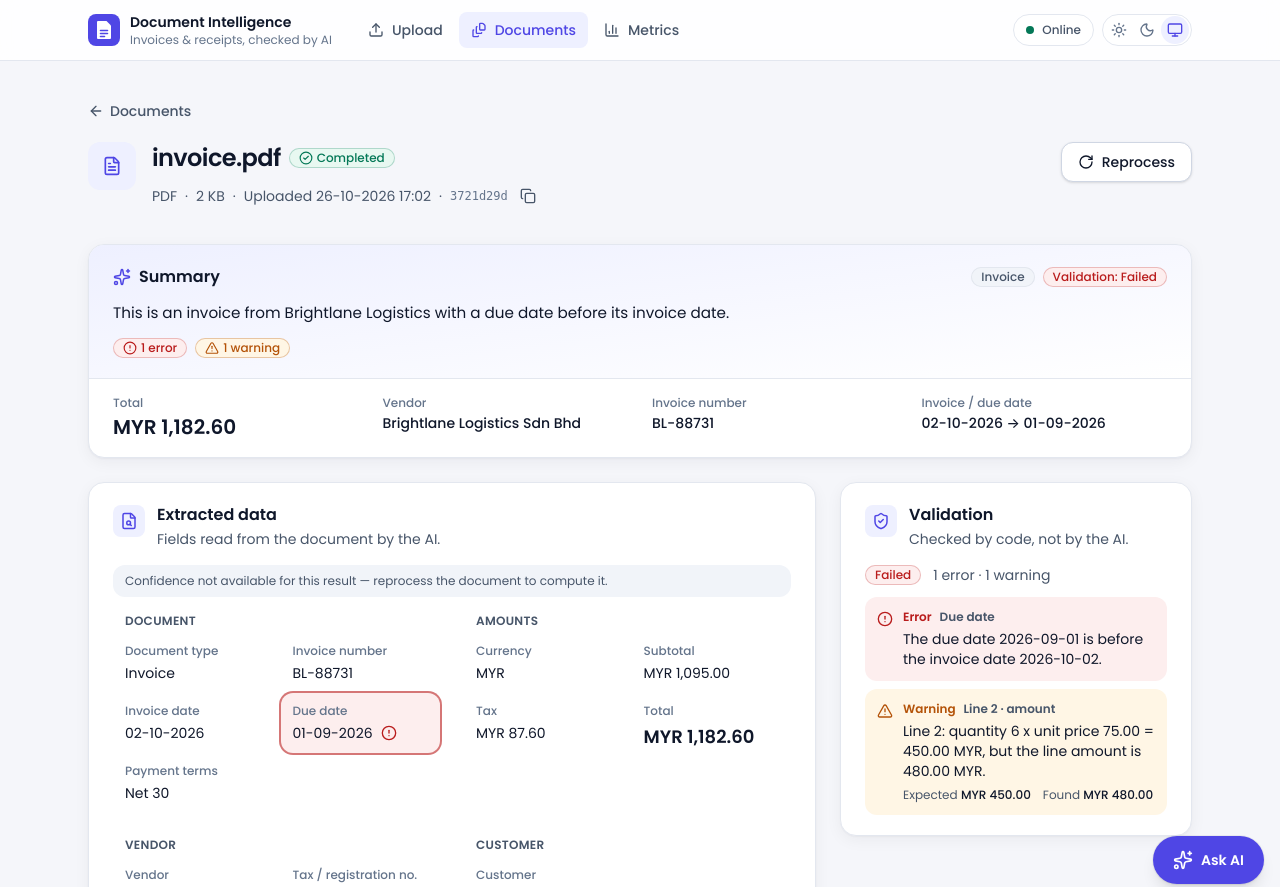
Test case: Reprocess › can be cancelled
The width and height of the screenshot is (1280, 887).
Check: the text "an invoice from Brightlane Logistics" is shown, box [113, 302, 729, 323]
Click the button "Reprocess" at (1126, 162), box [1061, 142, 1192, 182]
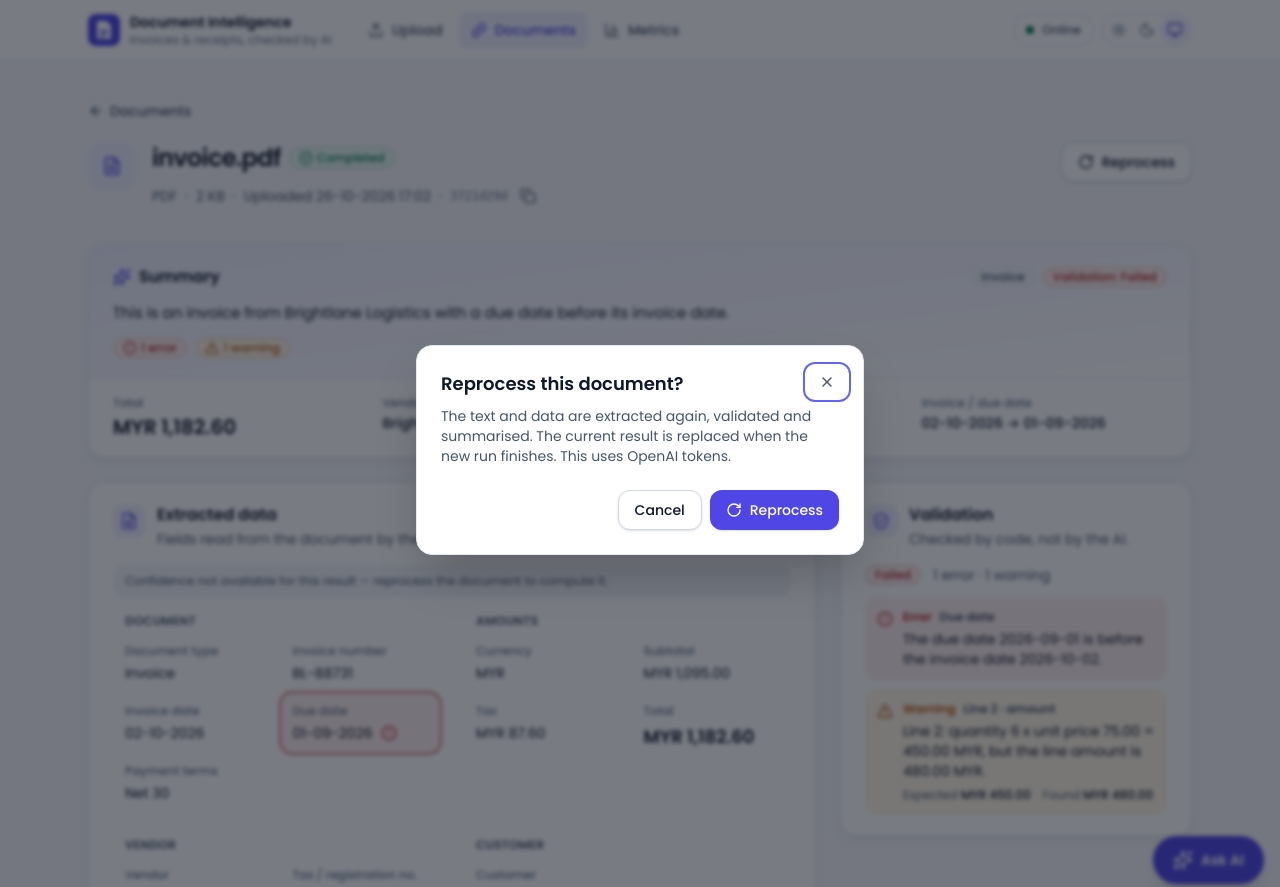
Click the button "Cancel" at (660, 510), box [618, 490, 702, 530]
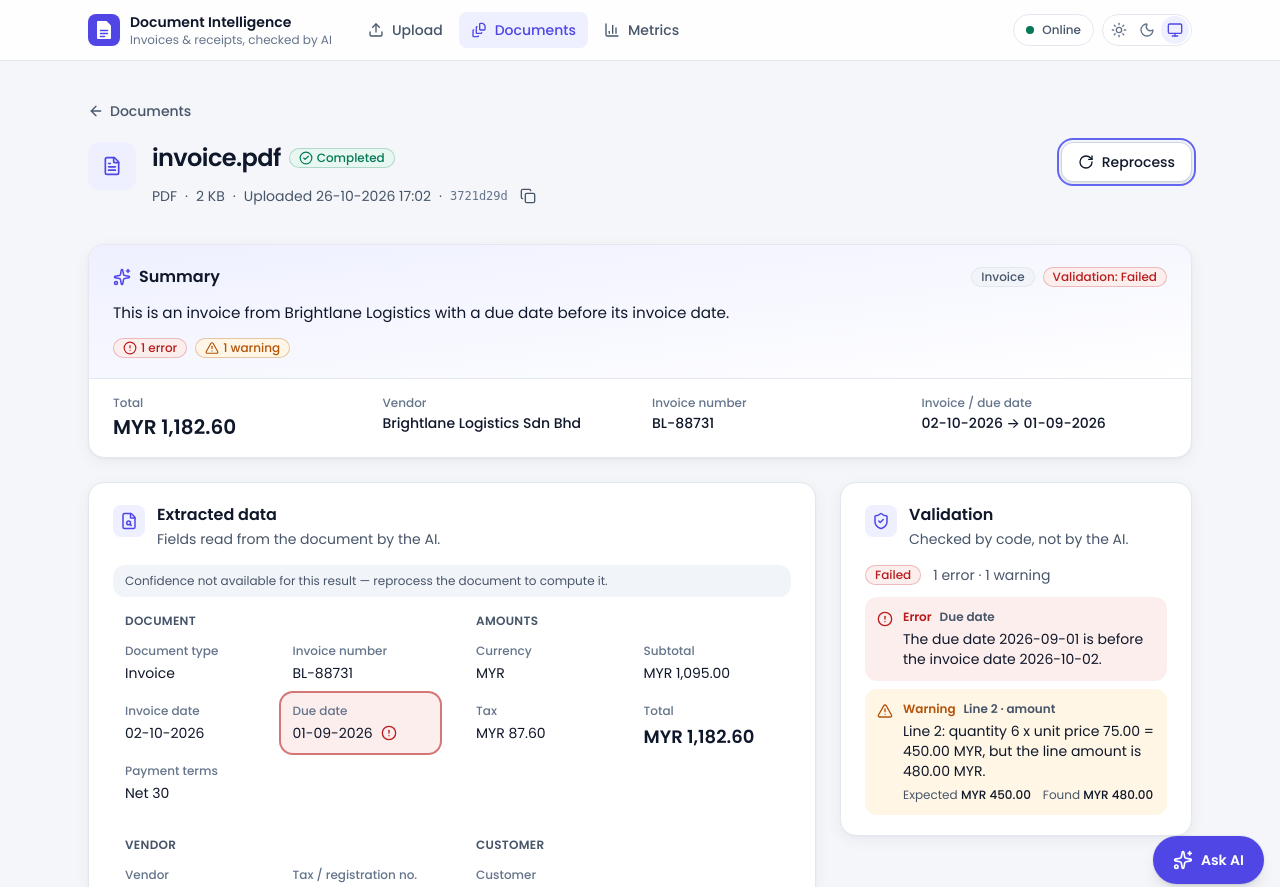
Check: the dialog is gone
